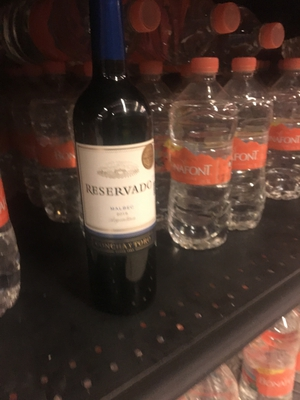reservado malbec: (63, 10, 176, 318)
